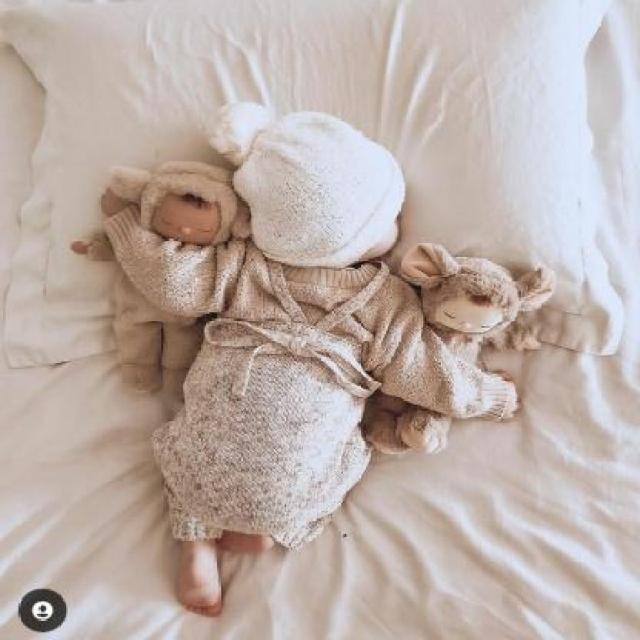baby: (102, 102, 466, 612)
